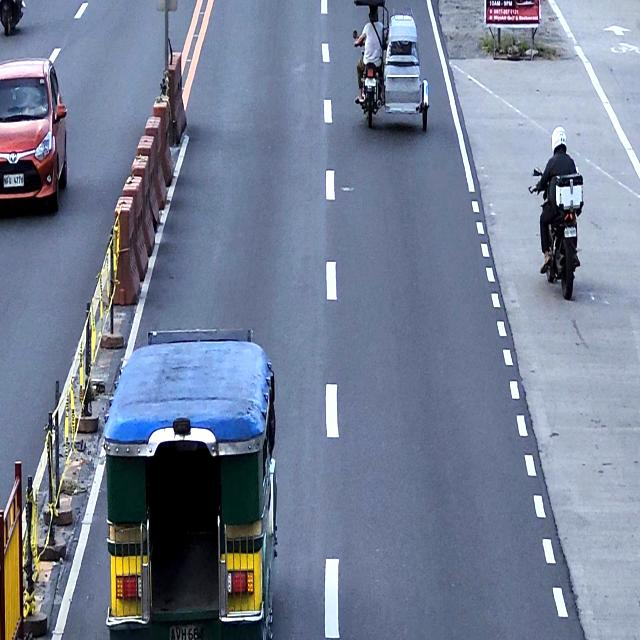Car: (0, 57, 68, 212)
Jeep: (102, 327, 277, 640)
License-Plate: (168, 625, 203, 640), (3, 172, 25, 188), (564, 228, 578, 238), (364, 76, 376, 87)
Motorcycle: (528, 166, 584, 300)
Tricycle: (356, 2, 430, 132)
